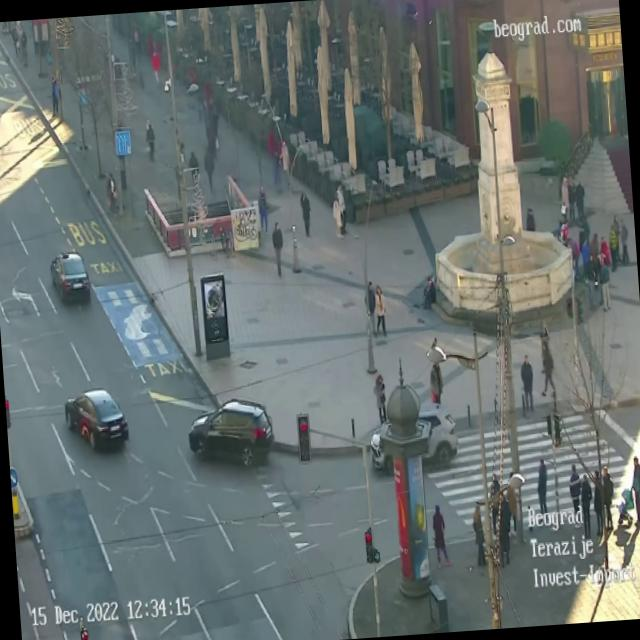car: (185, 395, 275, 471), (368, 408, 458, 470), (62, 387, 130, 452), (48, 250, 90, 304)
